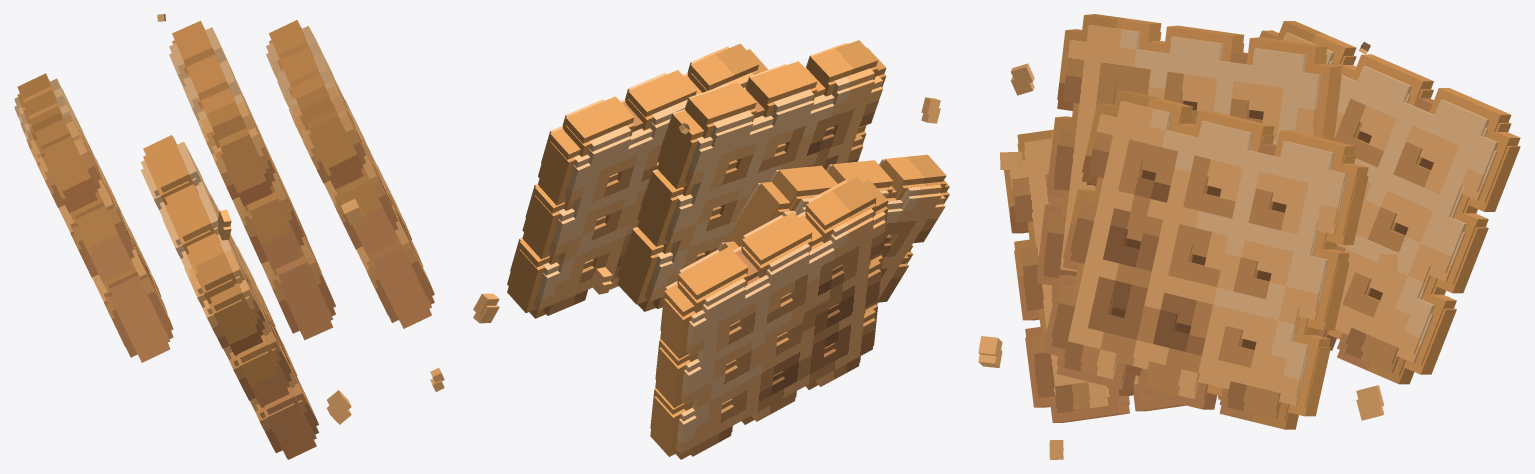
File: UI_stackOfCrackers.gltf
3 renders of one model, left to right at view 1: azimuth 30°, elevation 25°; view 2: azimuth 150°, elevation 25°; view 3: azimuth 270°, elevation 25°, orthographic. The views are drawn at different scales.
Visible parts, largest first — view 1: crumbs-Local.057, Cracker, crumbs-Local.019, cracker02_low-Local.002, cracker02_low-Local.001, cracker02_low-Local, cracker02_low-Local.003; view 2: Cracker, cracker02_low-Local.002, crumbs-Local.019, cracker02_low-Local.001, crumbs-Local.057, cracker02_low-Local, cracker02_low-Local.003; view 3: cracker02_low-Local.003, cracker02_low-Local, cracker02_low-Local.001, cracker02_low-Local.002, crumbs-Local.057, Cracker, crumbs-Local.019.
Part boxes in pixels (x1,y1,x2,y2): crumbs-Local.057: [18, 24, 444, 438]; Cracker: [14, 14, 444, 459]; crumbs-Local.019: [14, 43, 425, 433]; cracker02_low-Local.002: [26, 30, 424, 439]; cracker02_low-Local.001: [169, 29, 421, 320]; cracker02_low-Local: [269, 20, 428, 300]; cracker02_low-Local.003: [23, 20, 433, 342]; Cracker: [473, 66, 949, 459]; cracker02_low-Local.002: [513, 40, 907, 428]; crumbs-Local.019: [519, 45, 949, 421]; cracker02_low-Local.001: [511, 47, 886, 291]; crumbs-Local.057: [473, 40, 949, 409]; cracker02_low-Local: [507, 43, 768, 285]; cracker02_low-Local.003: [600, 43, 882, 423]; cracker02_low-Local.003: [1037, 15, 1520, 419]; cracker02_low-Local: [1044, 91, 1367, 420]; cracker02_low-Local.001: [1037, 14, 1368, 420]; cracker02_low-Local.002: [1005, 16, 1520, 415]; crumbs-Local.057: [979, 14, 1485, 450]; Cracker: [978, 32, 1520, 459]; crumbs-Local.019: [1027, 15, 1519, 450].
Bounding box in the file's own units: 18.31 × 16.74 × 21.12.
Materials: 8 (7 with a texture image).
